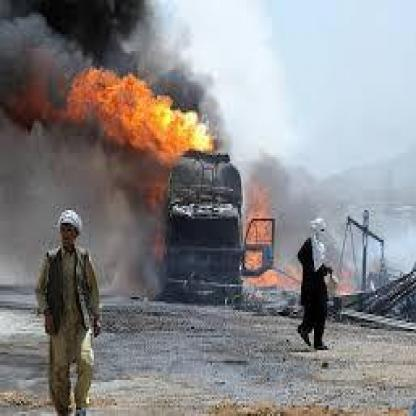fire: (42, 64, 214, 162), (239, 180, 281, 286)
smoke: (0, 0, 220, 102)
